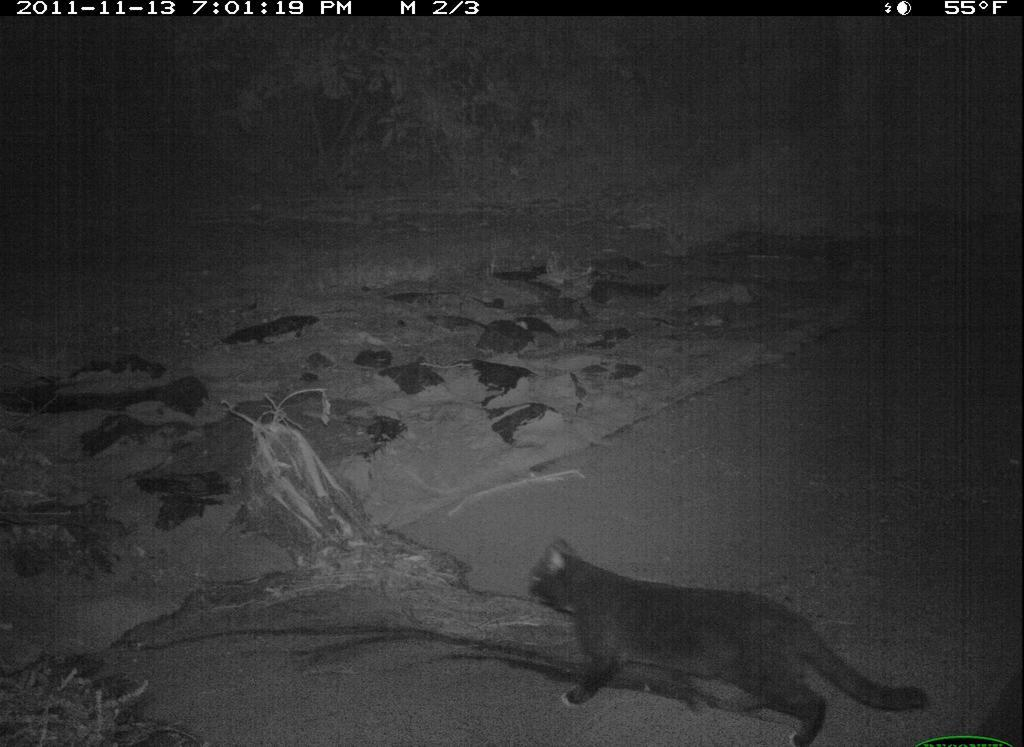cat: (511, 525, 941, 743)
